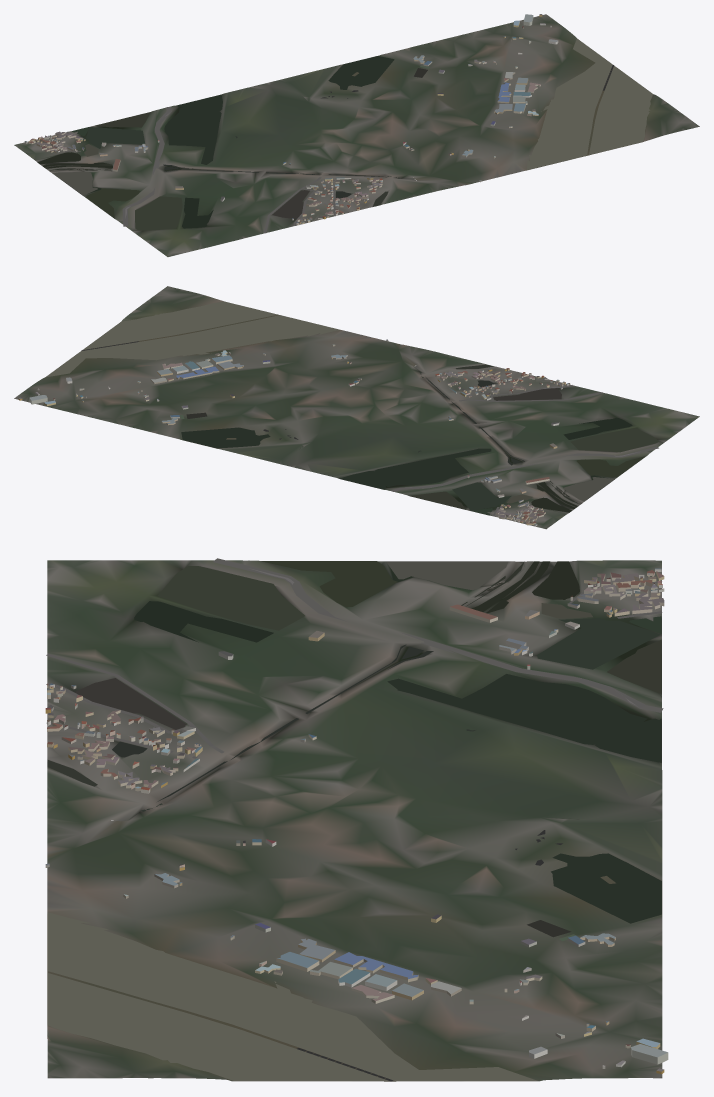
The picture shows the model from 3 angles, top to bottom: view 1: azimuth 30°, elevation 25°; view 2: azimuth 150°, elevation 25°; view 3: azimuth 270°, elevation 25°; orthographic projection. The views are drawn at different scales.
Visible parts, largest first — view 1: ground, water, buildings, roads; view 2: ground, water, buildings, roads; view 3: ground, water, buildings, roads.
Boxes of the visible parts, x1,y1,x2,y2 form: ground: (14, 14, 699, 256); water: (37, 38, 652, 230); buildings: (24, 14, 558, 225); roads: (39, 106, 335, 233); ground: (14, 286, 699, 529); water: (46, 301, 658, 515); buildings: (18, 339, 570, 526); roads: (390, 375, 658, 523); ground: (47, 560, 662, 1081); water: (47, 561, 661, 1081); buildings: (45, 568, 668, 1074); roads: (46, 558, 663, 758).
Size of the model in its own units: 2815 by 28.86 by 1420.
